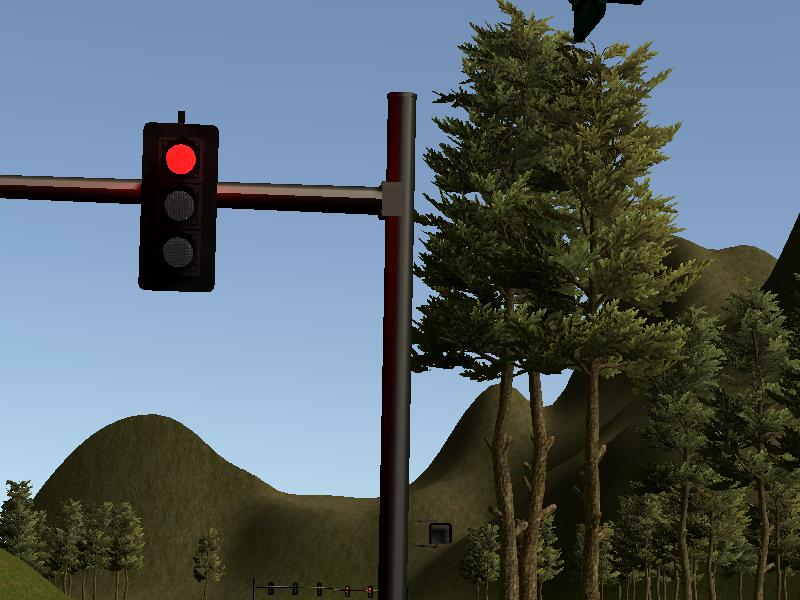Red: (143, 121, 213, 291)
